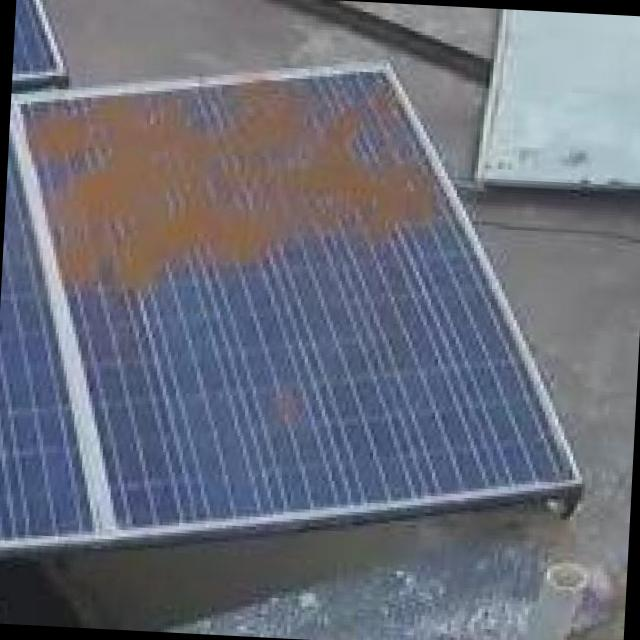faulty: (27, 76, 563, 523)
